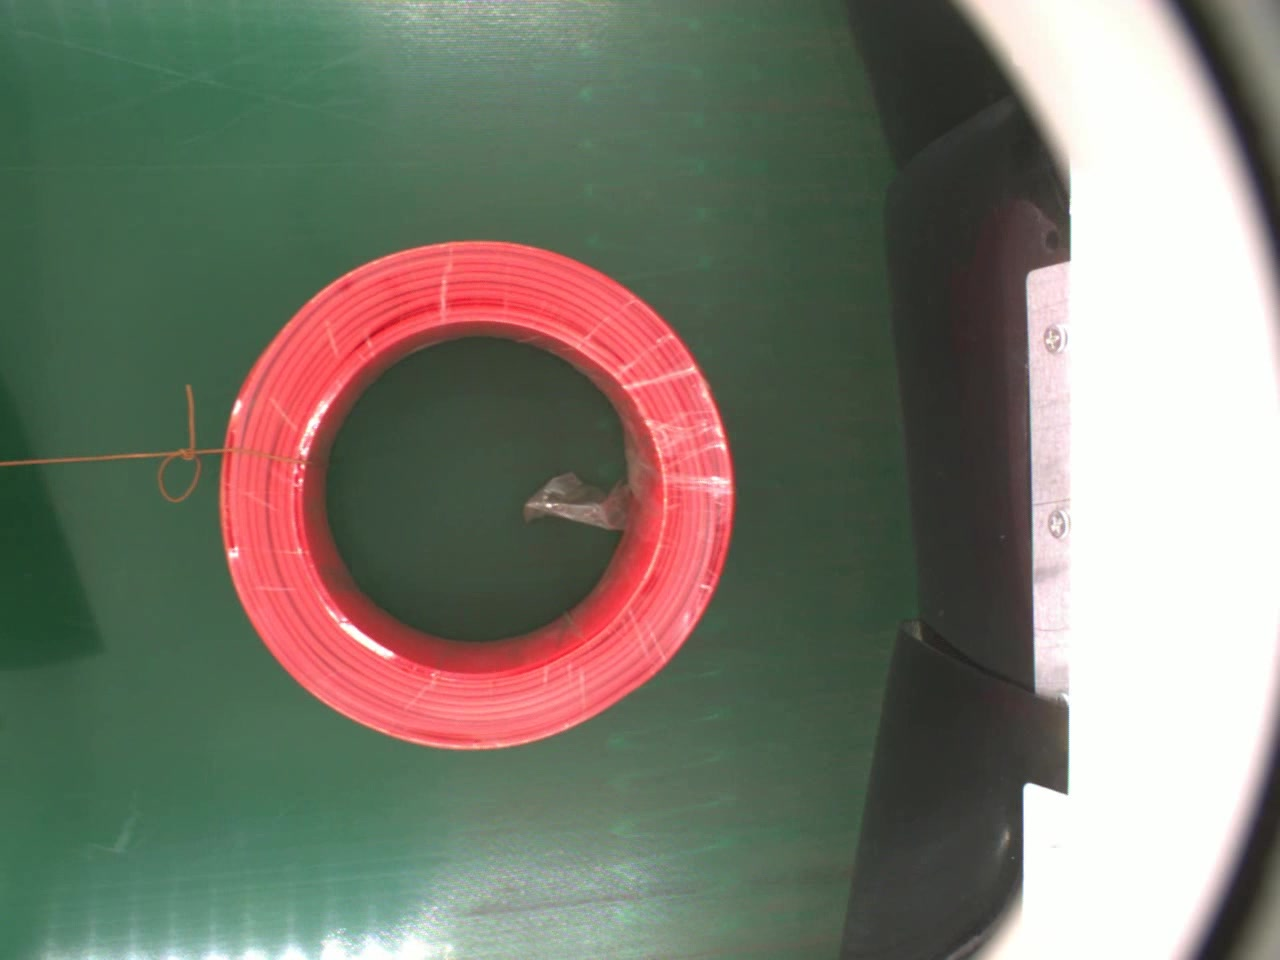red: (217, 237, 737, 753)
